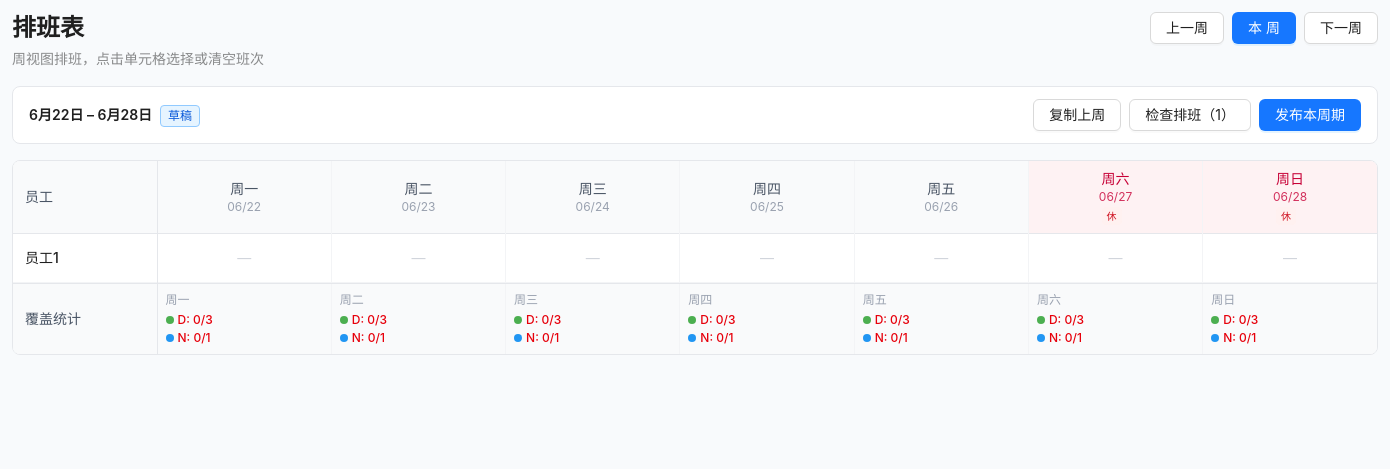
Test: SchedulePage › [c1] 初次进入不展示 warnings 摘要，点击「检查排班」后展示
Check: the text "排班警告" is not shown
Click the button "检查排班（1）" at coordinates (1190, 115), box [1129,99,1251,131]
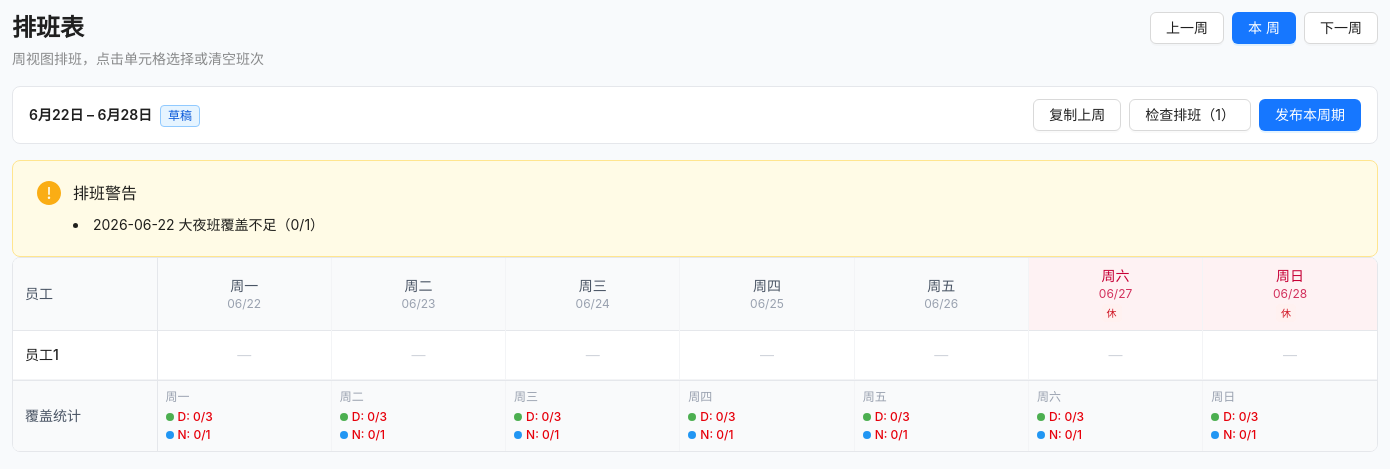
Check: the text "排班警告" is shown, box [73,183,137,203]
Check: the list item "2026-06-22 大夜班覆盖不足（0/1）" is shown, box [93,216,324,233]
